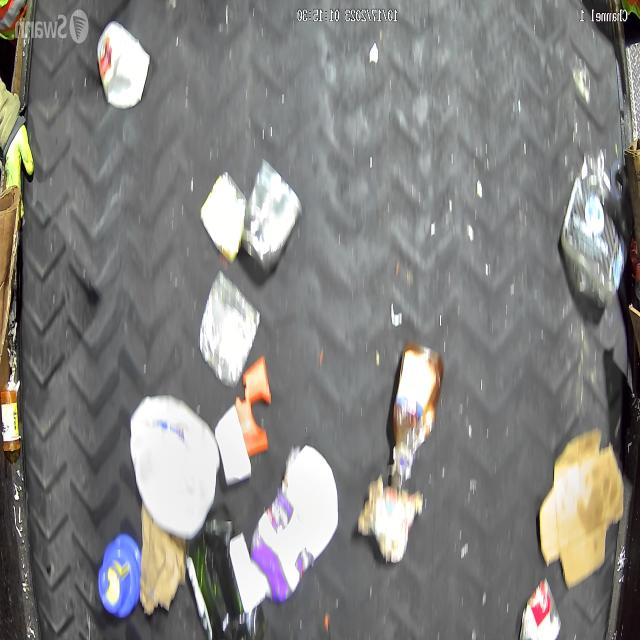can: (240, 159, 302, 274), (200, 273, 260, 386), (198, 170, 247, 264), (517, 575, 560, 640)
milk_jug: (129, 394, 220, 538)
non_white_jug: (97, 21, 148, 108)
